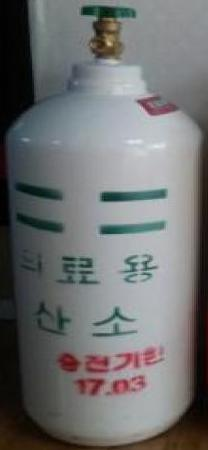cylinder: (1, 1, 208, 450)
